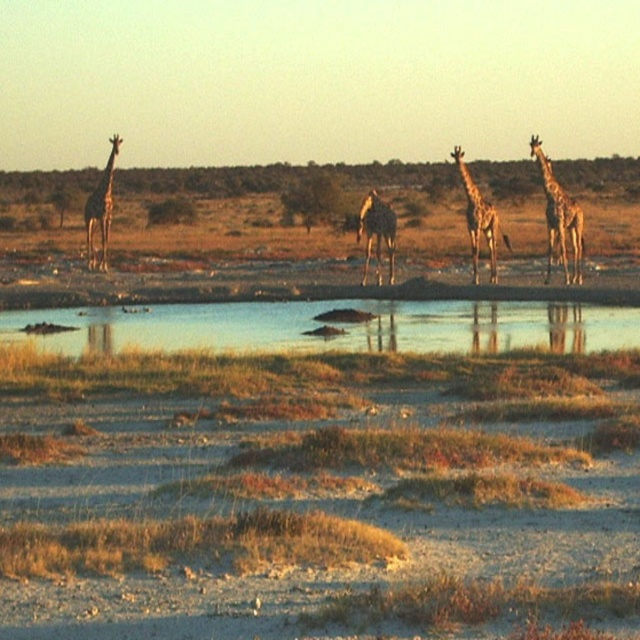Giraffe: (448, 144, 516, 295), (525, 133, 592, 284), (83, 132, 123, 269), (352, 192, 399, 285)
